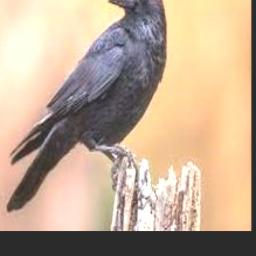Crow: (5, 0, 166, 213)
